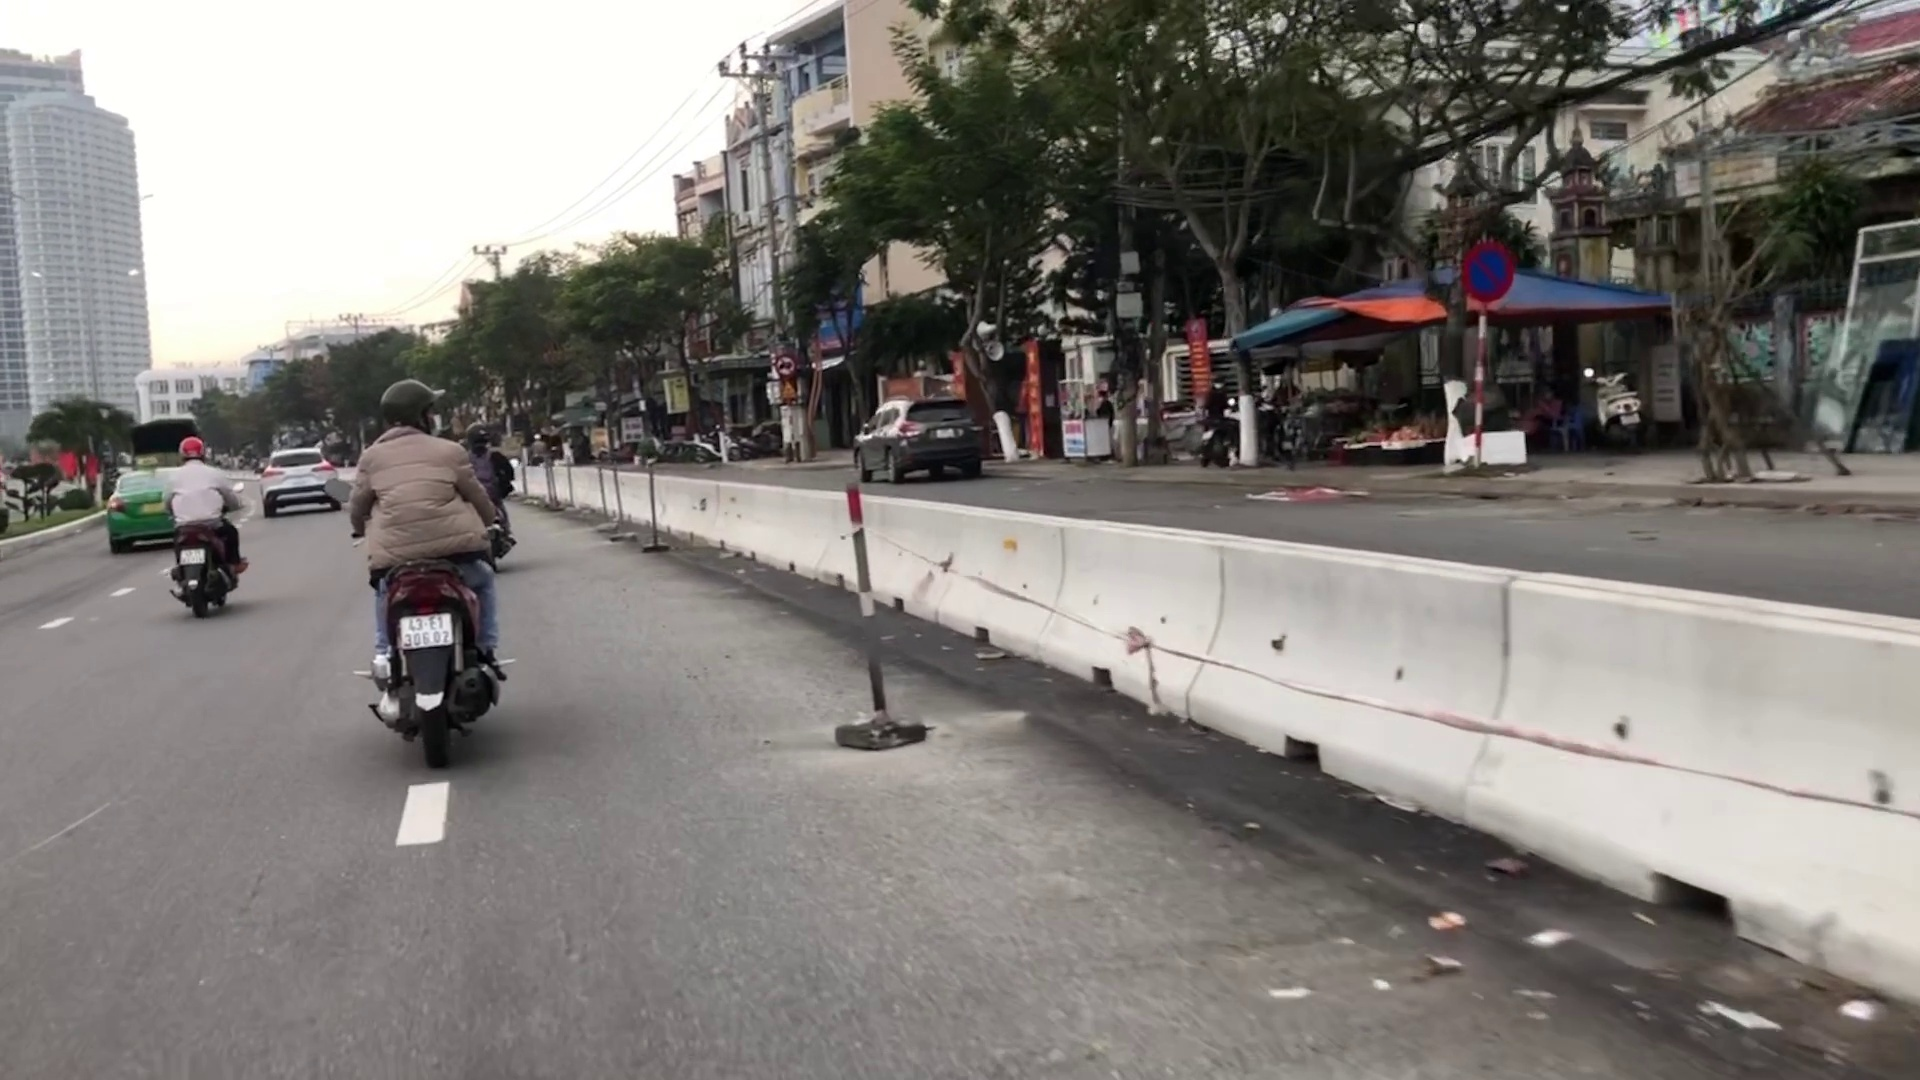Cam do xe: (1458, 237, 1516, 301)
